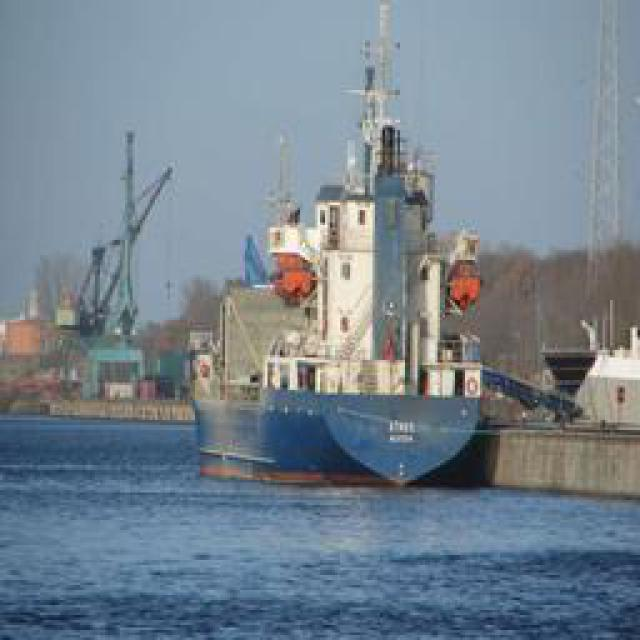Ship: (185, 10, 539, 490)
